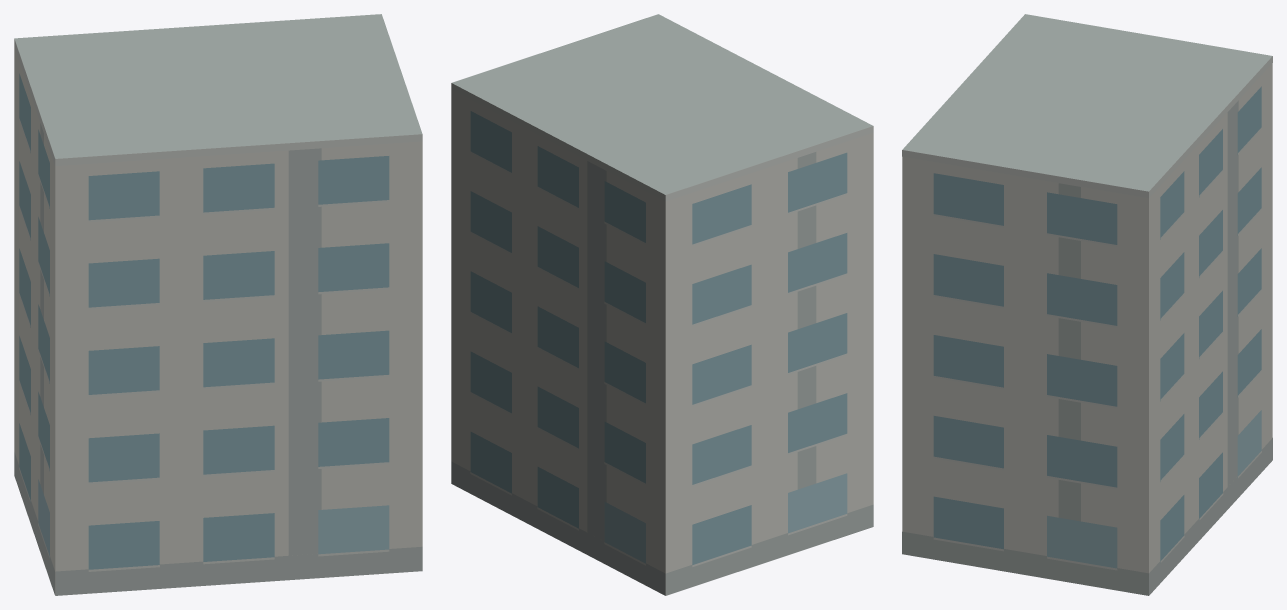
The model's file is survey-upis-32929343.glb.
3 views of the same model, side by side, from view 1: azimuth 30°, elevation 25°; view 2: azimuth 150°, elevation 25°; view 3: azimuth 270°, elevation 25° (orthographic). The views are drawn at different scales.
Visible parts, largest first — view 1: survey-upis-32929343.tmp; view 2: survey-upis-32929343.tmp; view 3: survey-upis-32929343.tmp.
Boxes of the visible parts, <box> form: survey-upis-32929343.tmp: <box>14,14,422,595</box>; survey-upis-32929343.tmp: <box>451,14,873,595</box>; survey-upis-32929343.tmp: <box>902,14,1272,595</box>.
Size of the model in its own units: 13.67 by 14.5 by 12.06.
